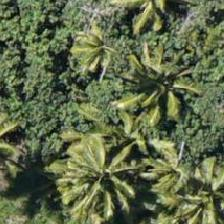coconut_tree: (39, 3, 129, 93), (120, 44, 210, 134), (56, 138, 146, 223), (155, 155, 223, 223), (120, 0, 210, 45)
